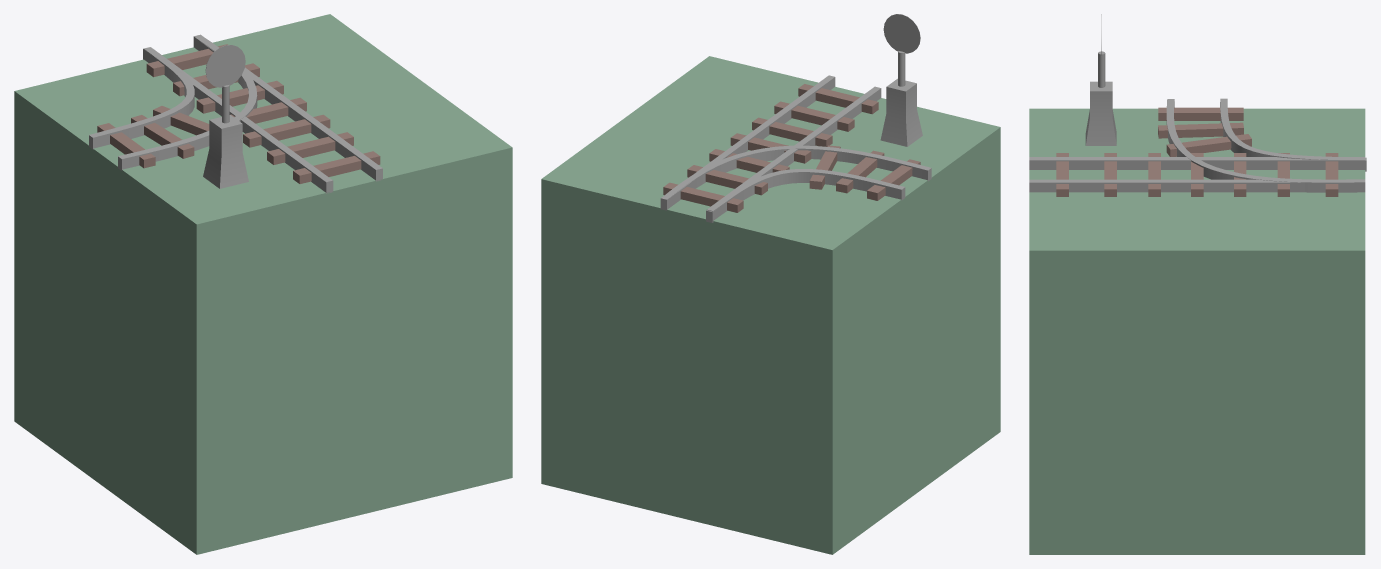
Rendered from wissel_r_metbord_export.fbx.
3 views of the same model, side by side, from view 1: azimuth 30°, elevation 25°; view 2: azimuth 150°, elevation 25°; view 3: azimuth 270°, elevation 25° (orthographic). The views are drawn at different scales.
Visible parts, largest first — view 1: pCylinder5; view 2: pCylinder5; view 3: pCylinder5.
Boxes of the visible parts, x1,y1,x2,y2 form: pCylinder5: [14, 14, 512, 554]; pCylinder5: [541, 14, 1000, 554]; pCylinder5: [1029, 14, 1366, 554].
Size of the model in its own units: 1 by 1.41 by 1.
